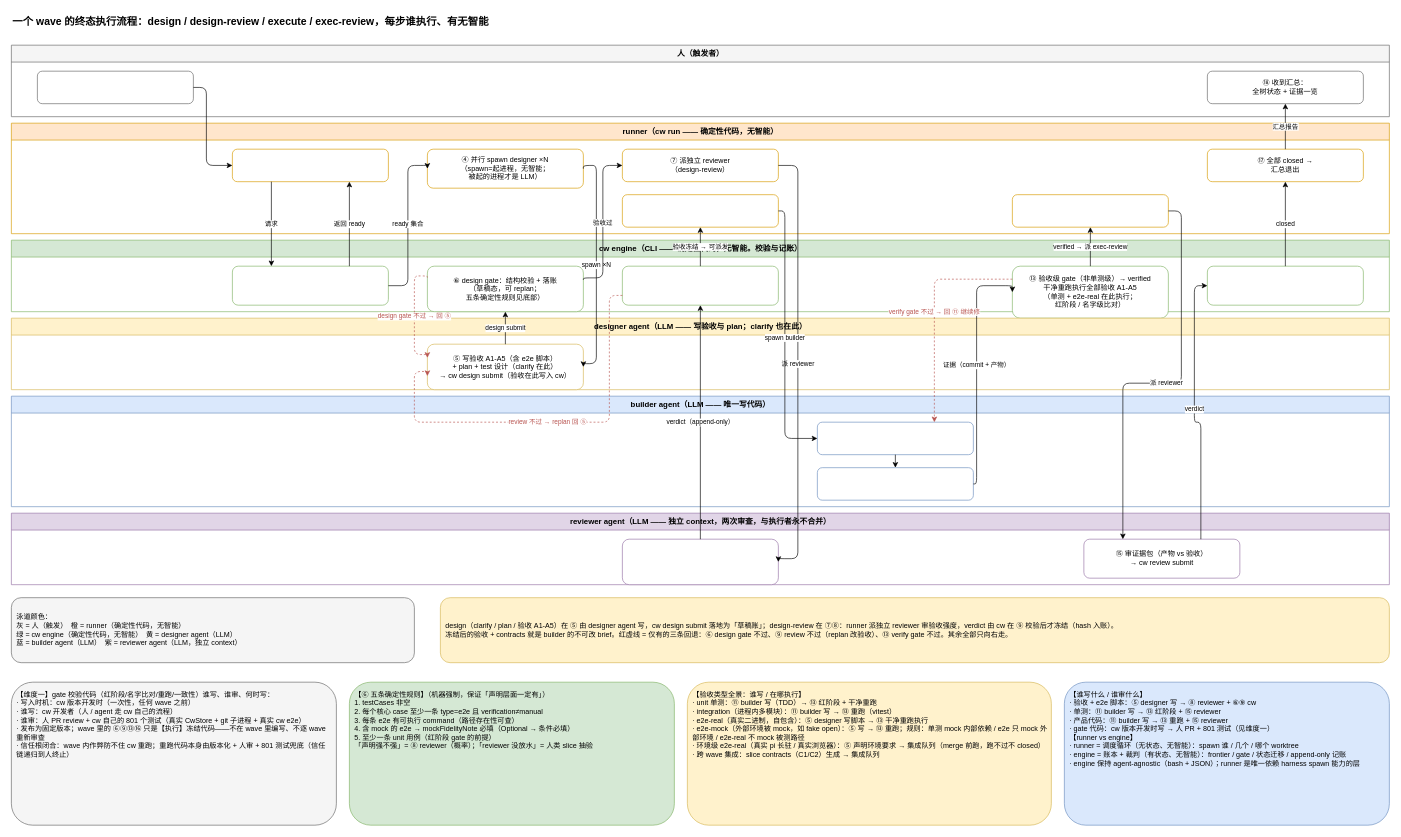
The diagram is 1401 pixels wide and 837 high, and some of its shapes have lost their labels. Here are the shapes that lost their labels. From the top down, the centre of each, then its label:
At pixel 115 87: "① 触发一次： cw run --root slice:X".
At pixel 310 165: "② 读就绪集合 cw frontier --json".
At pixel 700 210: "⑩ 重算 frontier → spawn builder （dependsOn 满足才派）".
At pixel 1090 210: "⑭ 派独立 reviewer （exec-review）".
At pixel 310 285: "③ 确定性算 ready （dependsOn / phase）".
At pixel 700 285: "⑨ verdict 一致性校验 → 验收冻结 （hash 入账，可派发）".
At pixel 1285 285: "⑯ verdict 一致性 gate → closed （append-only；之后进集成队列，见底部）".
At pixel 895 438: "⑪ 读 brief → 写代码 + 单测（TDD） （brief = 冻结的验收 + contracts）".
At pixel 895 483: "⑫ cw evidence submit （commit hash + 产物路径）".
At pixel 700 562: "⑧ 审验收强度：核心 case 有 e2e-real？ mock 没 mock 掉被测行为？断言够强？ → cw review submit（不可改）".
